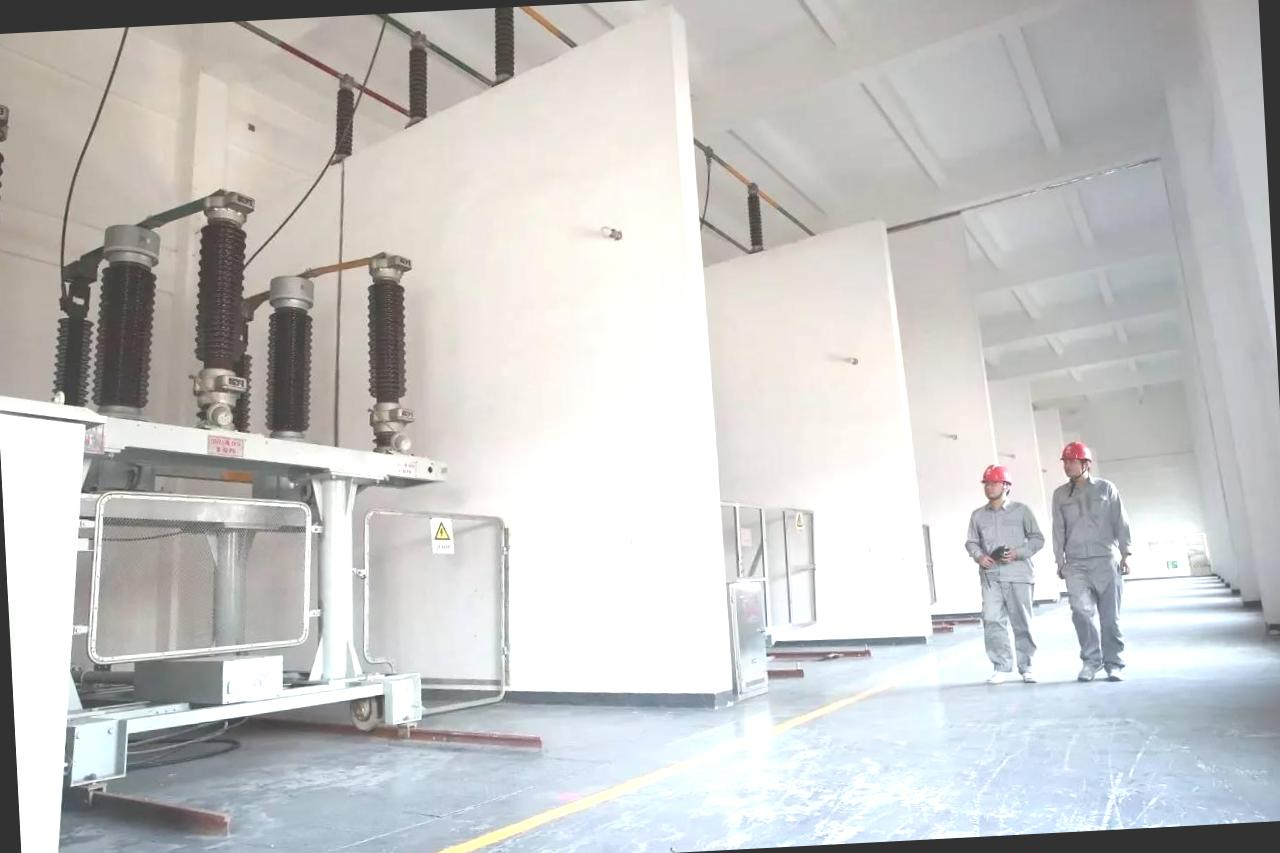helmet: (1056, 436, 1098, 484), (973, 455, 1013, 500)
no_vest: (1054, 480, 1130, 578), (968, 500, 1038, 588)
person: (1045, 430, 1145, 686), (954, 453, 1051, 693)
